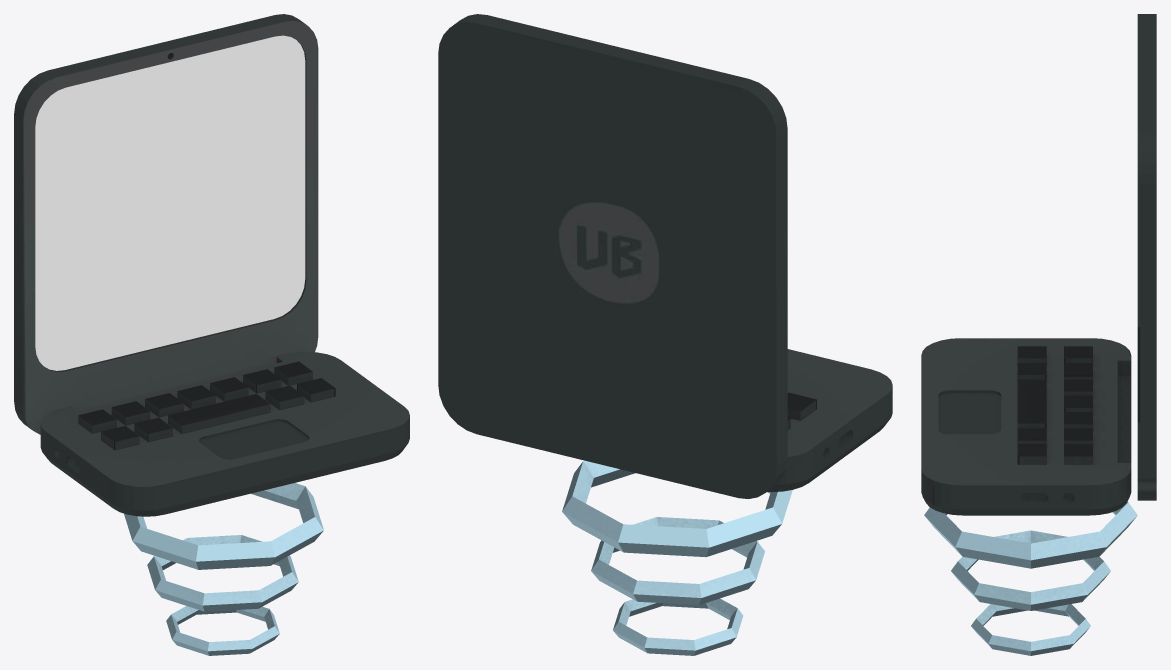
The model's file is desktopPiece.glb.
The picture shows the model from 3 angles, left to right: view 1: azimuth 30°, elevation 25°; view 2: azimuth 150°, elevation 25°; view 3: azimuth 270°, elevation 25°; orthographic projection. The views are drawn at different scales.
Visible parts, largest first — view 1: screen, laptop, rings; view 2: laptop, rings; view 3: laptop, rings.
Boxes of the visible parts, <box> form: screen: <box>35,35,305,370</box>; laptop: <box>14,14,409,516</box>; rings: <box>124,483,323,655</box>; laptop: <box>438,14,892,498</box>; rings: <box>562,460,792,655</box>; laptop: <box>921,14,1156,515</box>; rings: <box>924,501,1137,655</box>.
Size of what is drawn, in the model's own units: 0.8999 by 1.59 by 0.608.
3 materials, 2 textured.
